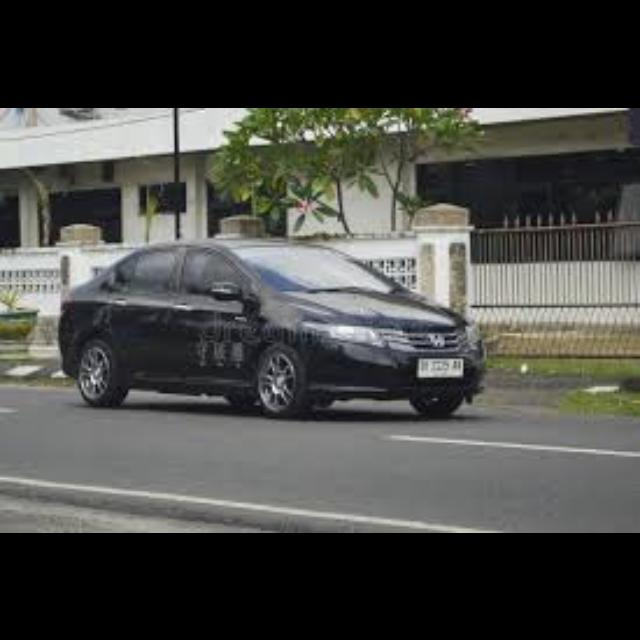vehicles: (51, 230, 493, 426)
